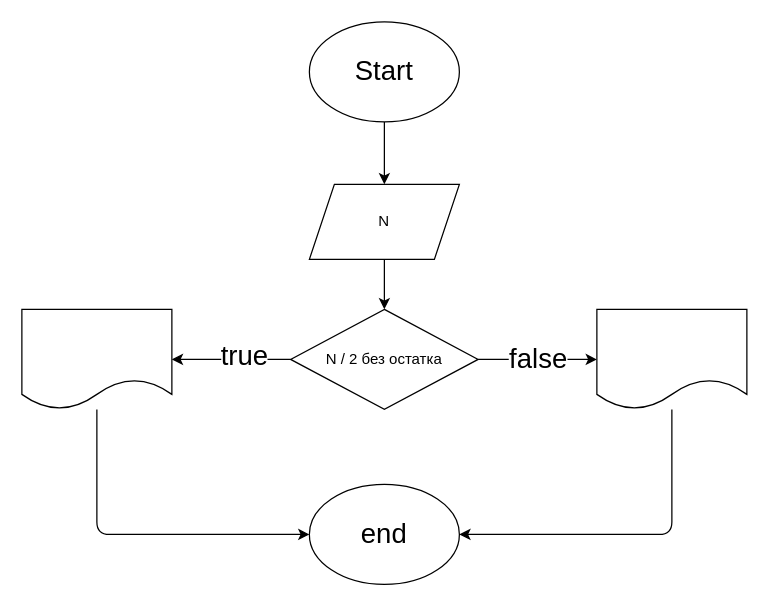
Some shapes in this 769 by 606 pixel diagram are drawn without their labels. Each missing label, with the centre of its shape:
"Нечётное" belongs at (x=671, y=358).
"Чётное" belongs at (x=96, y=358).
